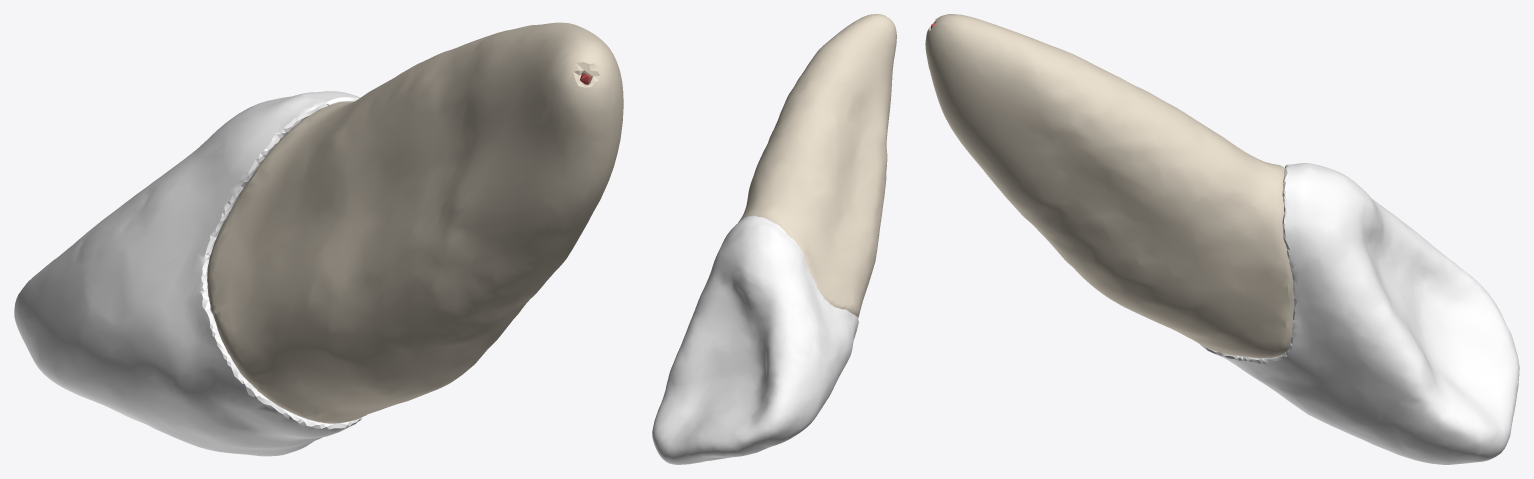
Rendered from 恒牙上颌侧切牙.fbx.
3 renders of one model, left to right at view 1: azimuth 30°, elevation 25°; view 2: azimuth 150°, elevation 25°; view 3: azimuth 270°, elevation 25°, orthographic. The views are drawn at different scales.
Visible parts, largest first — view 1: texture_B, texture_W; view 2: texture_W, texture_B; view 3: texture_B, texture_W.
Boxes of the visible parts, bbox=[...] form: texture_B: bbox=[207, 22, 623, 423]; texture_W: bbox=[14, 91, 361, 456]; texture_W: bbox=[652, 215, 858, 464]; texture_B: bbox=[738, 14, 896, 317]; texture_B: bbox=[925, 14, 1294, 358]; texture_W: bbox=[1200, 163, 1519, 464].
Size of the model in its own units: 9.86 by 20.58 by 25.08.
Materials: 3 (3 with a texture image).
